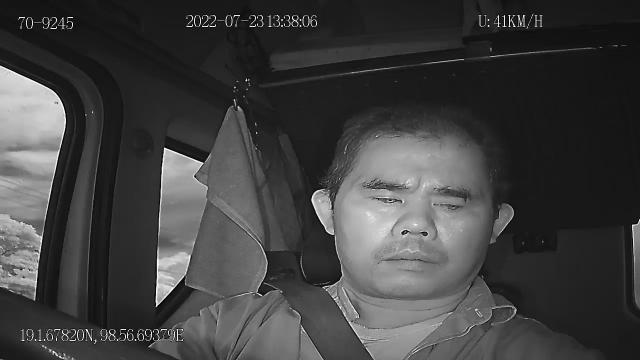SafeDriving: (358, 183, 412, 212), (426, 188, 474, 218)
Seatbelt: (262, 278, 376, 360)
